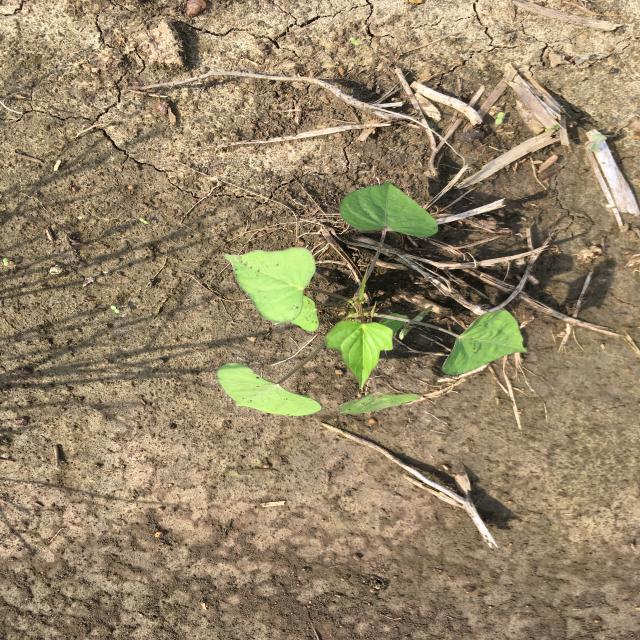MorningGlory: (216, 178, 532, 420)
